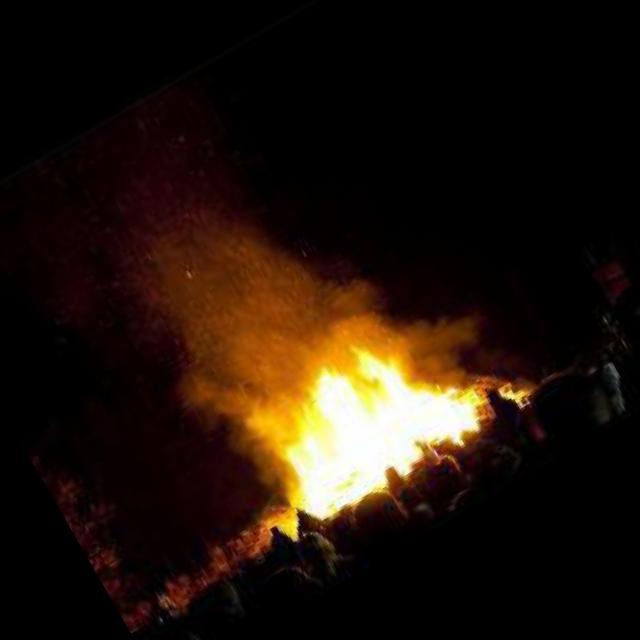fire: (215, 298, 493, 544)
